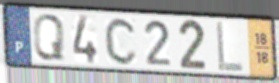2: (178, 18, 210, 72), (142, 19, 173, 68)
4: (71, 13, 100, 66)
C: (103, 15, 139, 67)
L: (215, 19, 246, 73)
Q: (32, 12, 66, 62)
